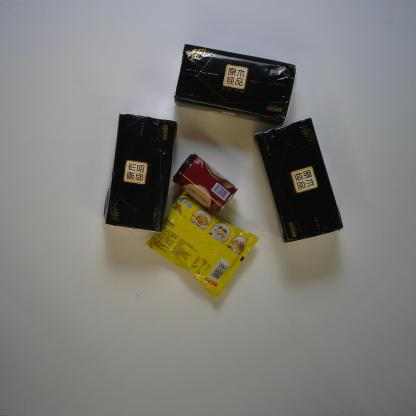Canned Food: (172, 153, 238, 216)
Instant Noodles: (143, 189, 260, 299)
Tissue: (251, 116, 344, 245), (174, 42, 297, 127), (102, 111, 178, 232)
